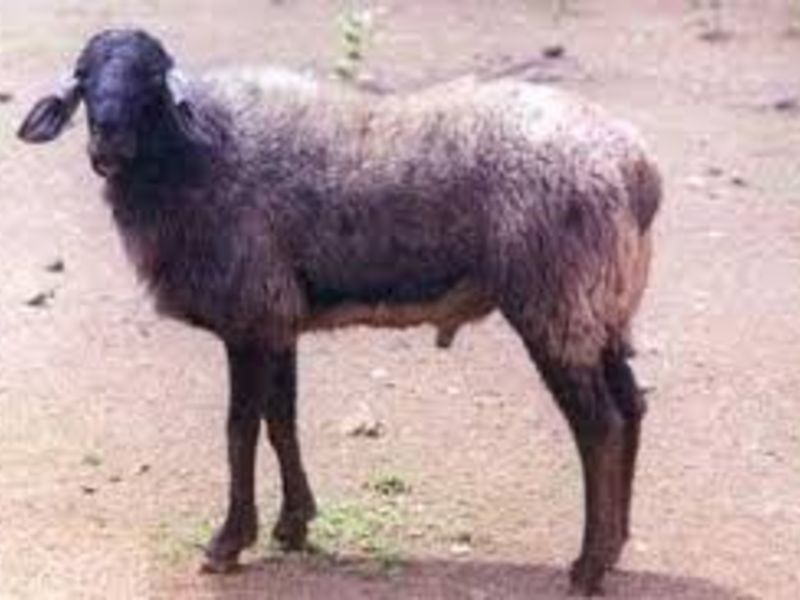sheep: (13, 22, 680, 597)
